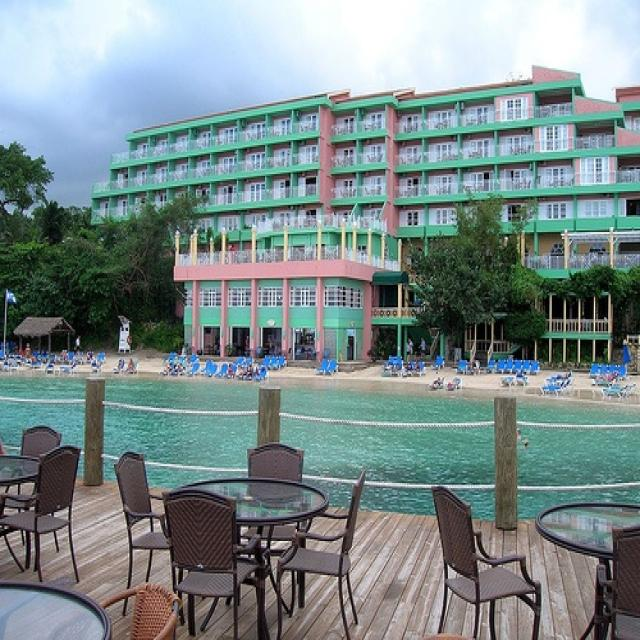chair: (432, 483, 542, 638), (276, 466, 368, 638), (163, 486, 266, 638), (0, 446, 83, 584), (108, 449, 179, 599), (591, 526, 639, 638), (101, 587, 179, 638), (246, 440, 301, 480), (17, 427, 64, 459)
